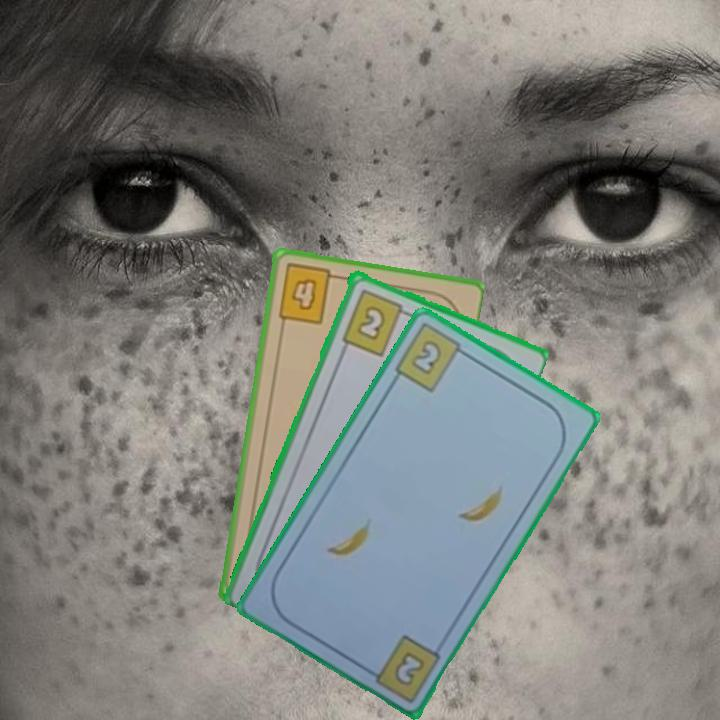2b: (390, 320, 474, 395), (338, 285, 413, 358), (390, 647, 428, 689)
4b: (274, 260, 343, 327)
